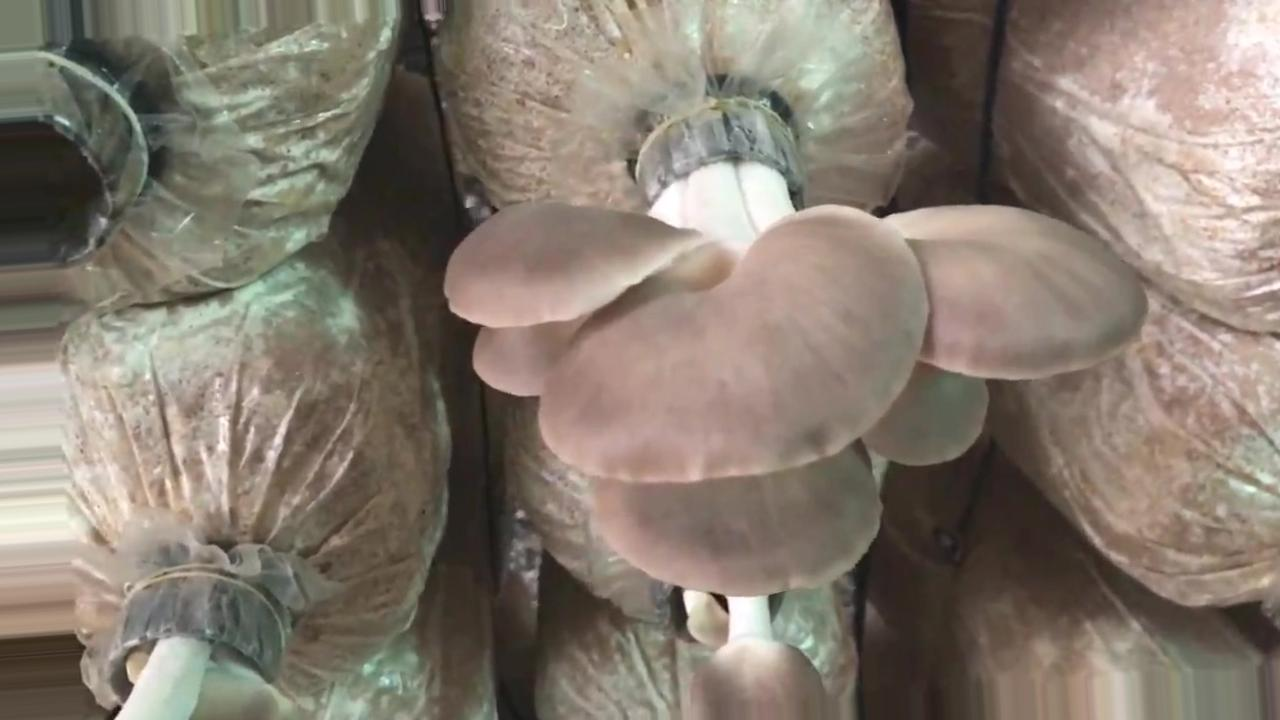nam: (445, 102, 1148, 594), (112, 580, 277, 720), (684, 589, 835, 720)
